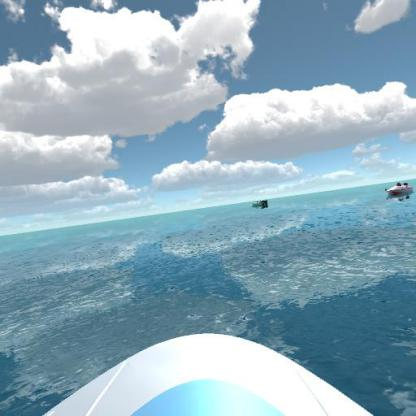usv0: (249, 196, 271, 210)
usv3: (384, 179, 415, 203)
